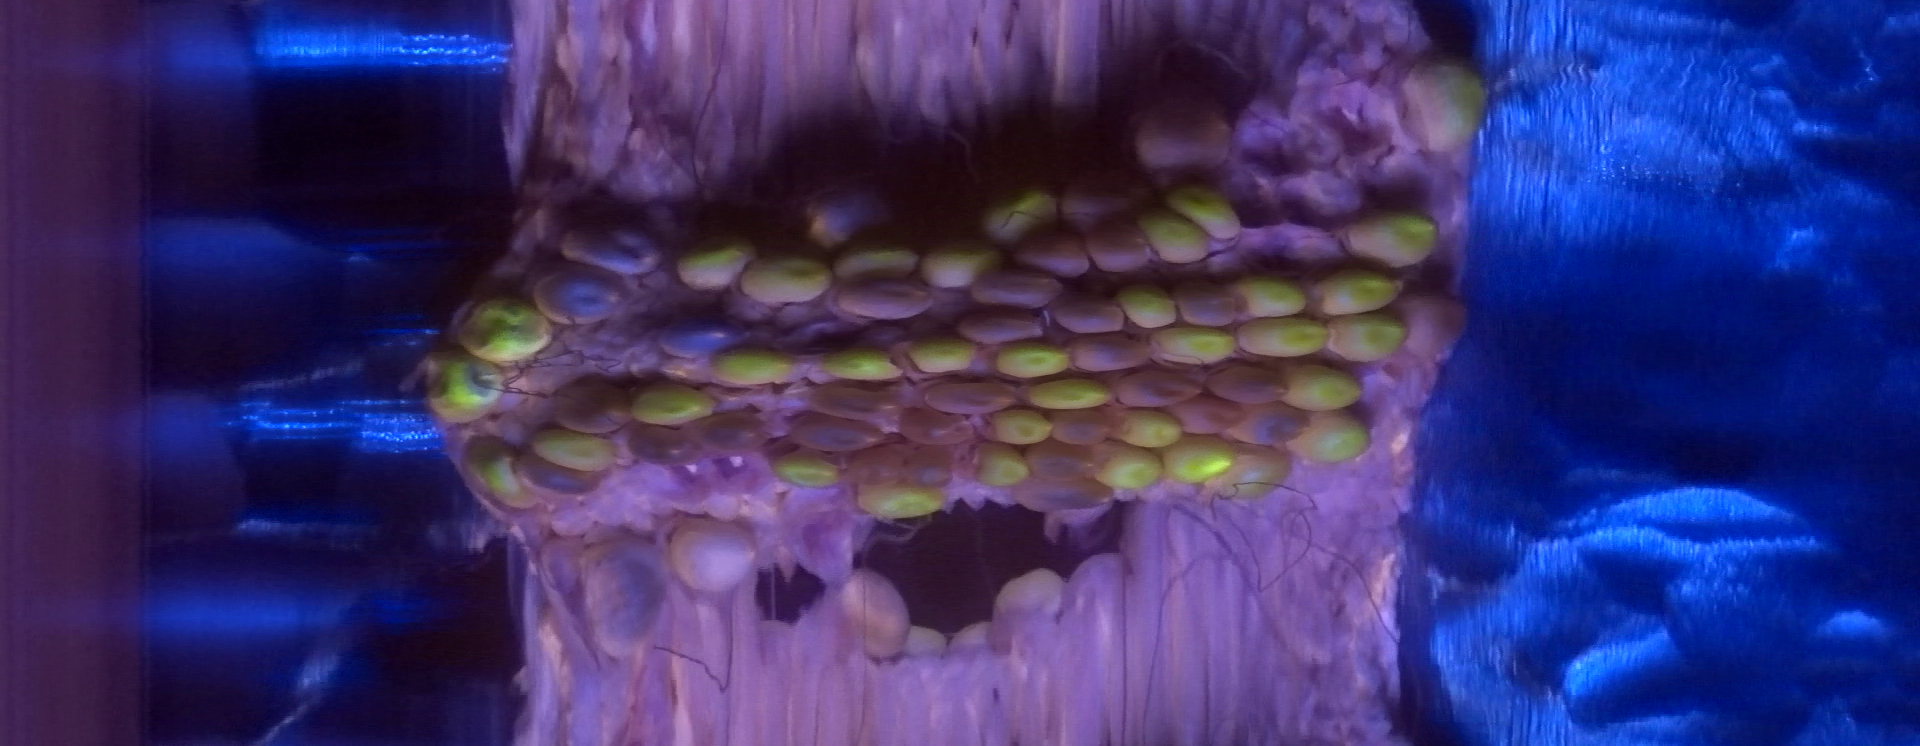fluorescent: (1413, 49, 1480, 149), (457, 299, 549, 359), (1354, 209, 1435, 272), (421, 354, 497, 420), (1207, 447, 1284, 499), (1134, 208, 1207, 261), (470, 441, 527, 508), (749, 254, 819, 306), (1178, 183, 1243, 239), (989, 183, 1058, 235), (531, 430, 612, 473), (1288, 412, 1367, 454), (1242, 317, 1325, 355), (1313, 279, 1402, 314), (671, 243, 740, 287), (1089, 441, 1153, 488), (922, 245, 997, 285), (1333, 317, 1408, 358), (1289, 363, 1356, 408), (1237, 273, 1308, 315), (631, 387, 713, 423), (827, 343, 900, 382), (1153, 330, 1237, 363), (857, 486, 947, 516), (1164, 436, 1226, 479), (1127, 274, 1176, 327), (718, 350, 795, 383), (913, 334, 975, 376), (836, 243, 907, 278), (975, 445, 1032, 488), (1120, 405, 1177, 446), (996, 343, 1067, 374), (986, 407, 1044, 443), (1029, 383, 1109, 405), (782, 452, 831, 484)
nonfluorescent: (576, 530, 672, 665), (1130, 86, 1236, 183), (666, 514, 767, 597), (842, 566, 917, 671), (556, 218, 669, 281), (797, 186, 904, 249), (508, 447, 611, 503), (546, 374, 634, 439), (530, 268, 621, 330), (1009, 469, 1120, 518), (786, 408, 889, 459), (680, 410, 778, 461), (835, 274, 936, 323), (656, 315, 758, 361), (1078, 219, 1161, 276), (1011, 230, 1100, 283), (972, 266, 1070, 312), (1169, 276, 1254, 330), (1205, 360, 1298, 408), (954, 303, 1051, 348), (1057, 169, 1134, 225), (802, 382, 909, 423), (1113, 366, 1209, 410), (1051, 290, 1136, 339), (1228, 402, 1318, 447), (923, 379, 1021, 418), (627, 423, 711, 468), (898, 404, 977, 452), (1068, 330, 1156, 372), (1166, 393, 1249, 437), (1024, 439, 1100, 484), (1043, 407, 1120, 451), (902, 452, 962, 492)
